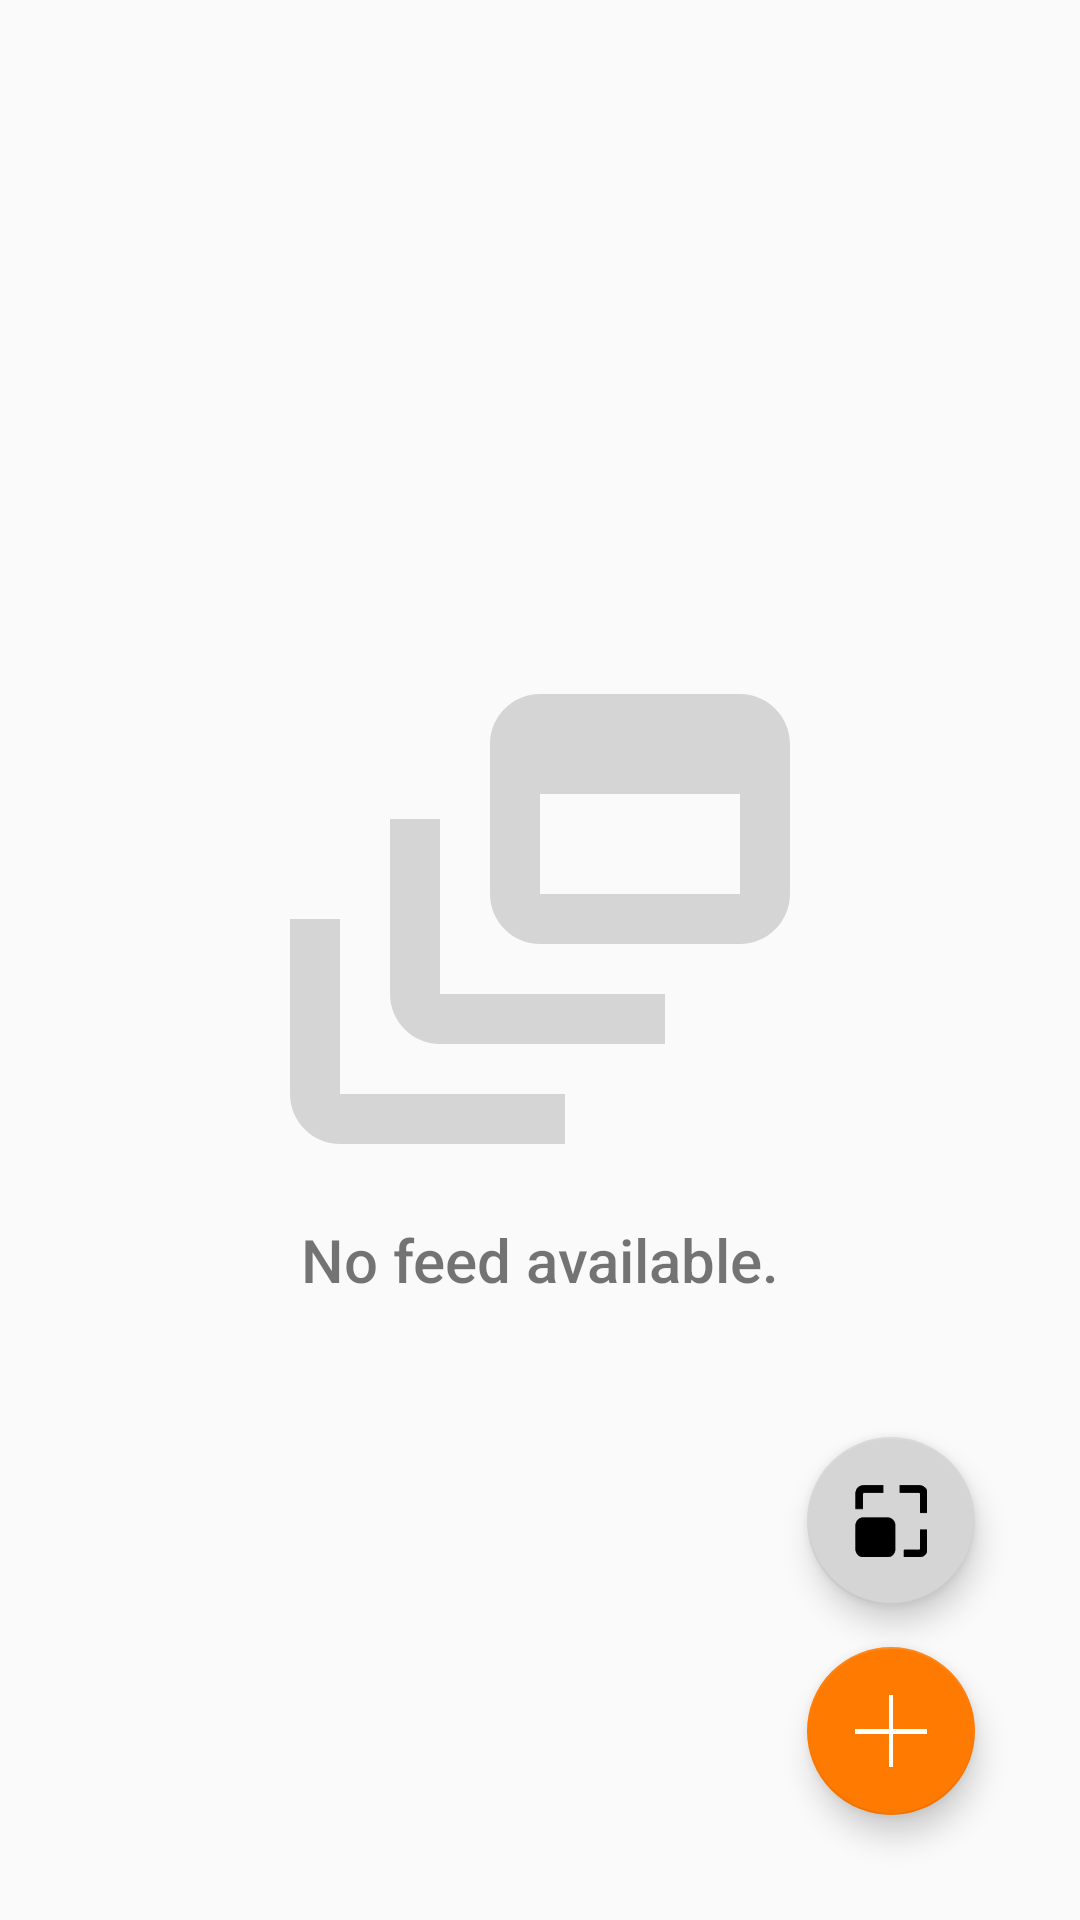

Screen size 1080px x 1920px. Icon name, then its box in pixels as (x1, y1, x2, y2):
Add Image: (807, 1647, 975, 1815)
resize: (807, 1437, 975, 1605)
